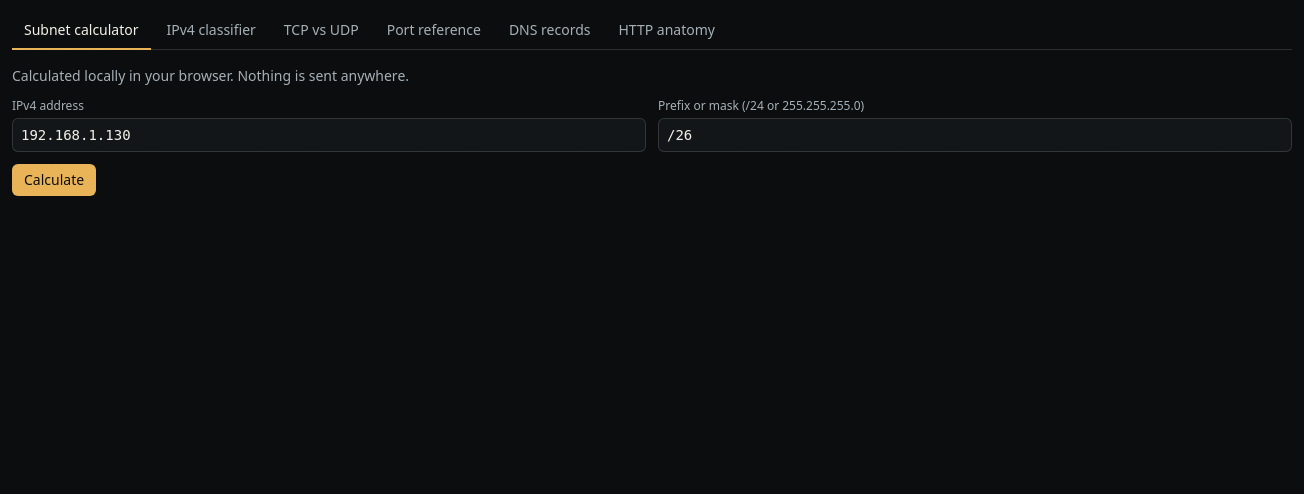
Test: NetworkToolsApp › calculates a subnet and shows readable errors
Click the button "Calculate": (54, 180) [12,164,96,196]
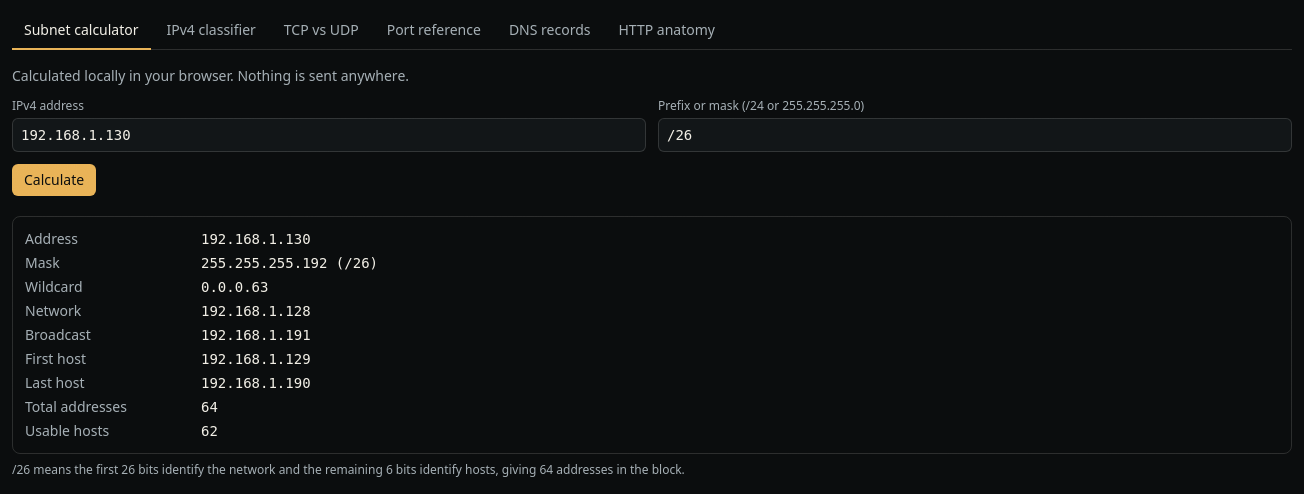
Expected: the text "192.168.1.191" is shown, [201,327,311,343]
Replace the text in the field labelled "IPv4 address" with "999.1.1.1": (329, 135) [12,118,646,152]
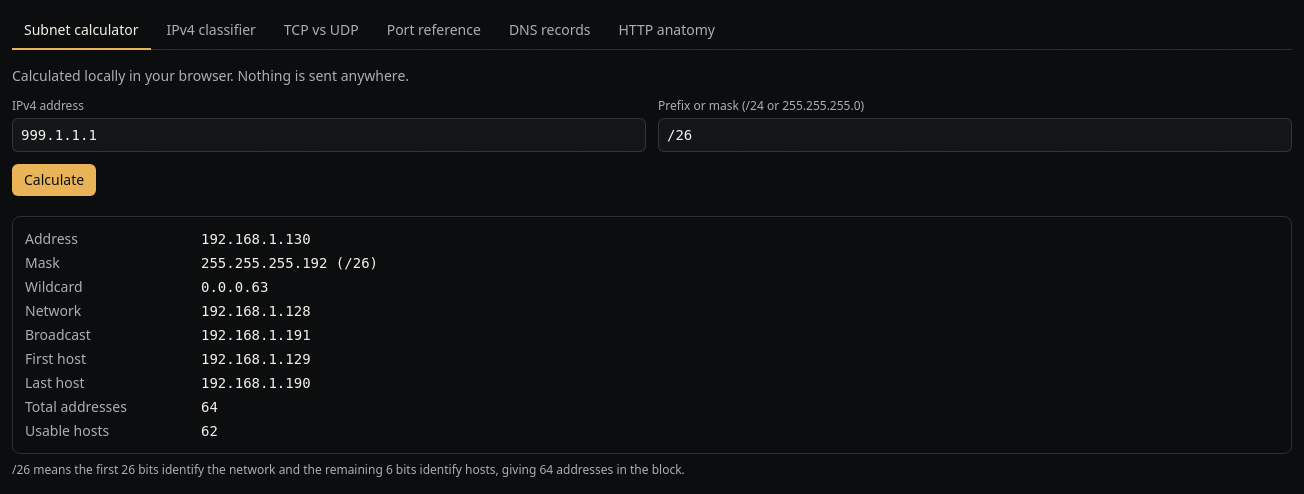
Click the button "Calculate": (54, 180) [12,164,96,196]
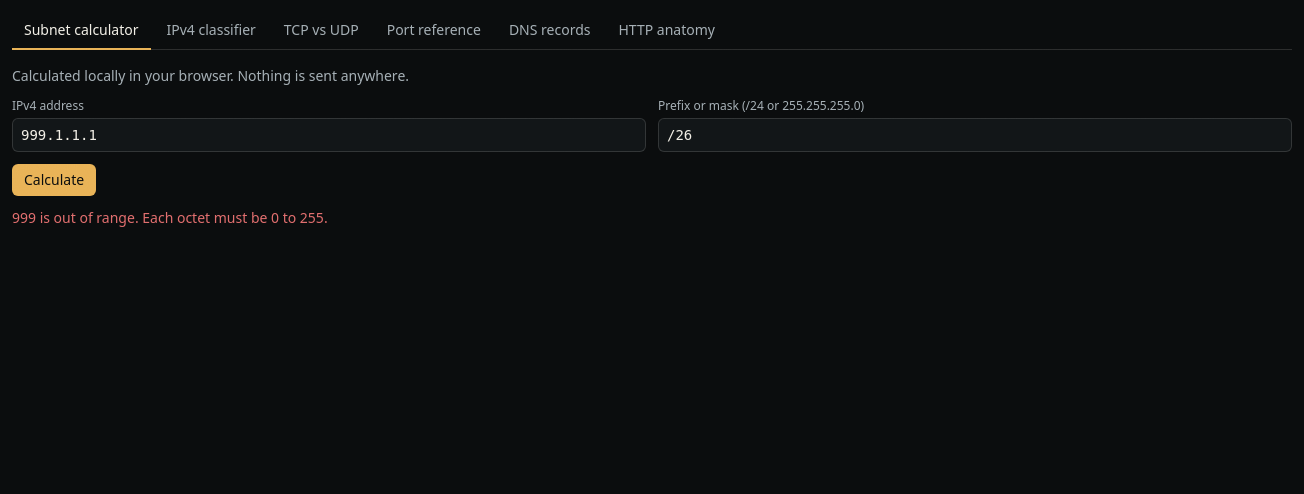
Expected: the message shows "out of range", [12,208,328,227]
